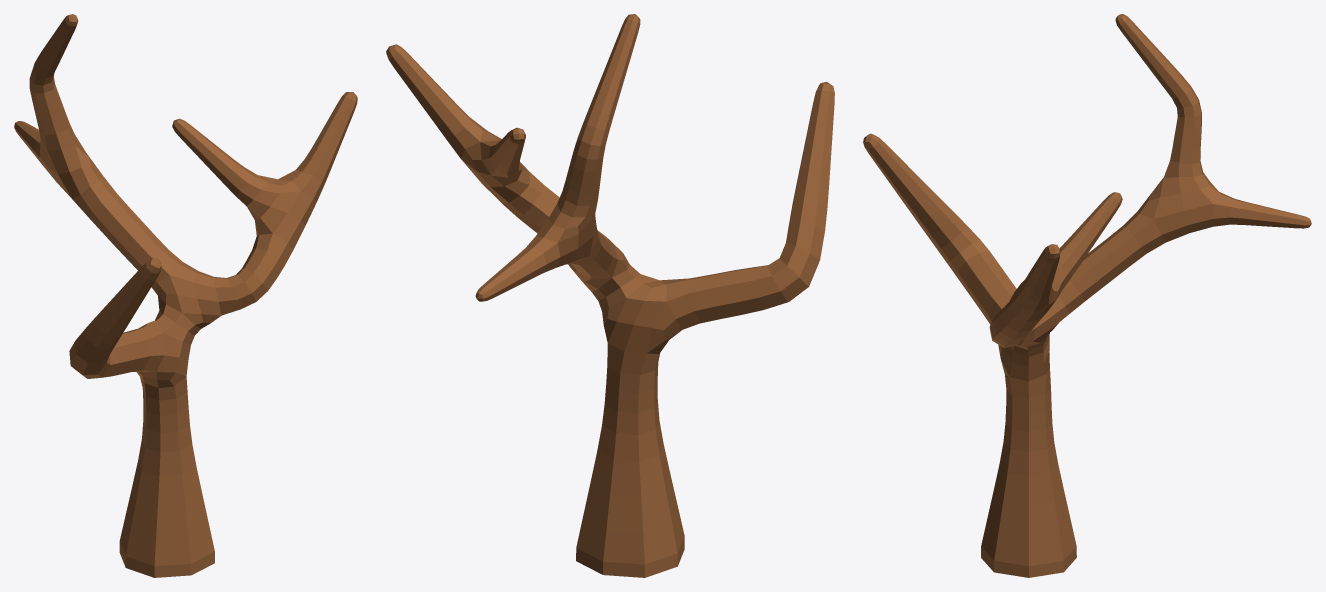
The model's file is Dry_Tree_01.fbx.
The picture shows the model from 3 angles, left to right: view 1: azimuth 30°, elevation 25°; view 2: azimuth 150°, elevation 25°; view 3: azimuth 270°, elevation 25°; orthographic projection. The views are drawn at different scales.
Visible parts, largest first — view 1: Dry_Tree_01; view 2: Dry_Tree_01; view 3: Dry_Tree_01.
Part boxes in pixels (bbox=[...]): Dry_Tree_01: bbox=[14, 14, 357, 577]; Dry_Tree_01: bbox=[386, 14, 834, 577]; Dry_Tree_01: bbox=[863, 14, 1311, 577].
Bounding box in the file's own units: 225 × 339 × 266.
